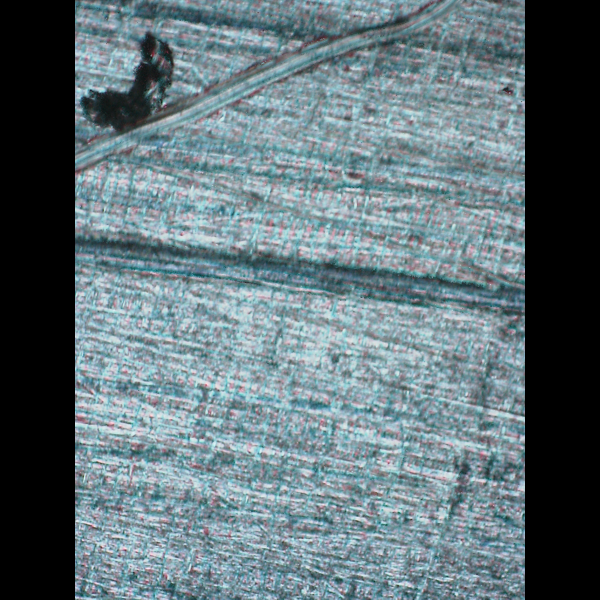d: (75, 0, 477, 175)
